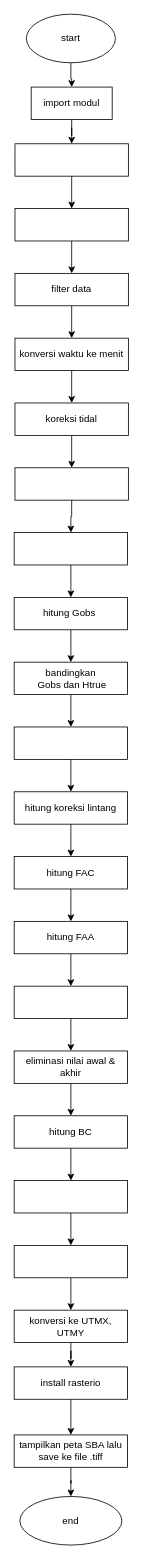
This 143x1559 diagram has some shape labels left out. The box of each missing label's shape, as (x1, y1, x2, y2) in pixels:
hitung SBA: (13, 1180, 128, 1213)
input data dari file .txt: (14, 143, 128, 176)
input nilai gbase: (13, 532, 128, 565)
konversi latitude: (13, 726, 128, 759)
koreksi drift: (14, 467, 128, 500)
simpan ke variabel df: (14, 208, 128, 241)
tampilkan hasil koreksi: (13, 985, 128, 1019)
tampilkan longtitude, latitude, SBA: (13, 1245, 128, 1278)
